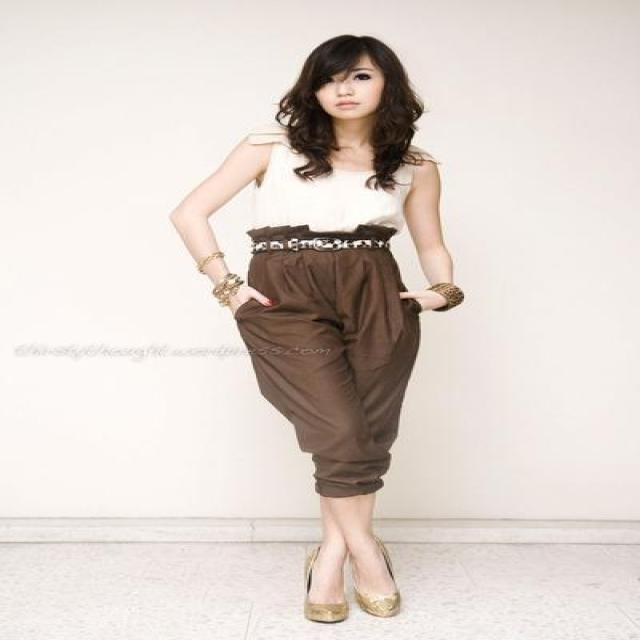pants: (234, 244, 421, 497)
shirt: (246, 145, 400, 230)
shoe: (304, 576, 400, 623)
